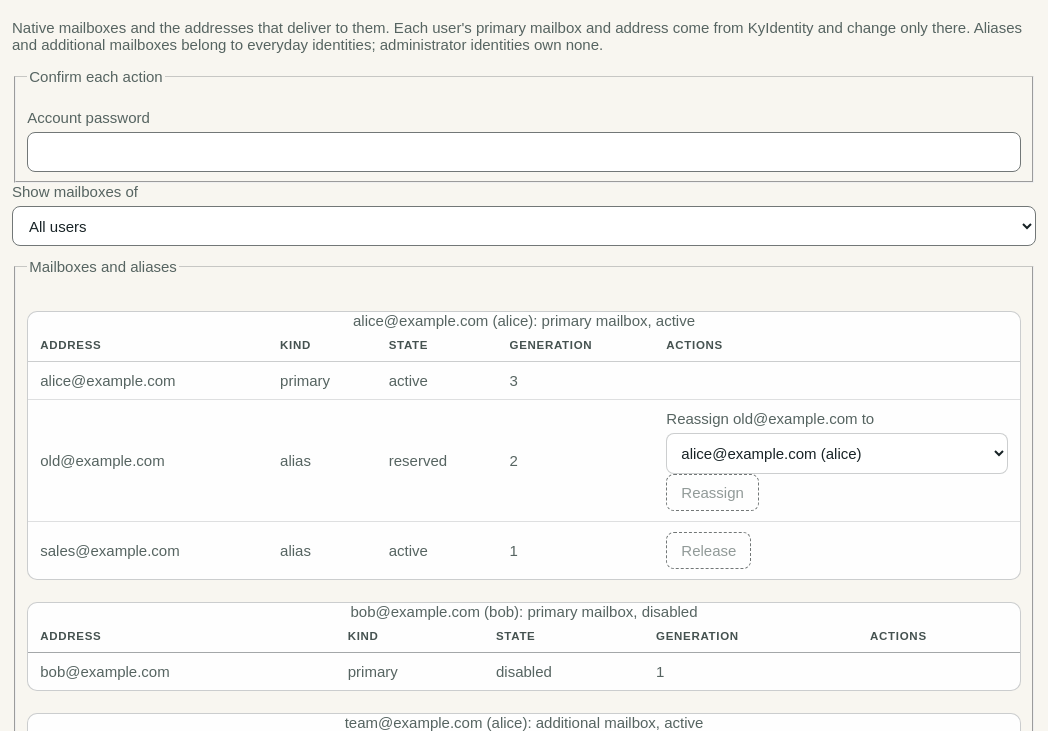
locks changes until reload when no answer arrived
The width and height of the screenshot is (1048, 731).
expect the text "sales@example.com" is shown: met, box x1=28 y1=522 x2=268 y2=580
In the password field labelled "Account password": [524, 152] box x1=27 y1=132 x2=1021 y2=172, type "account-secret"
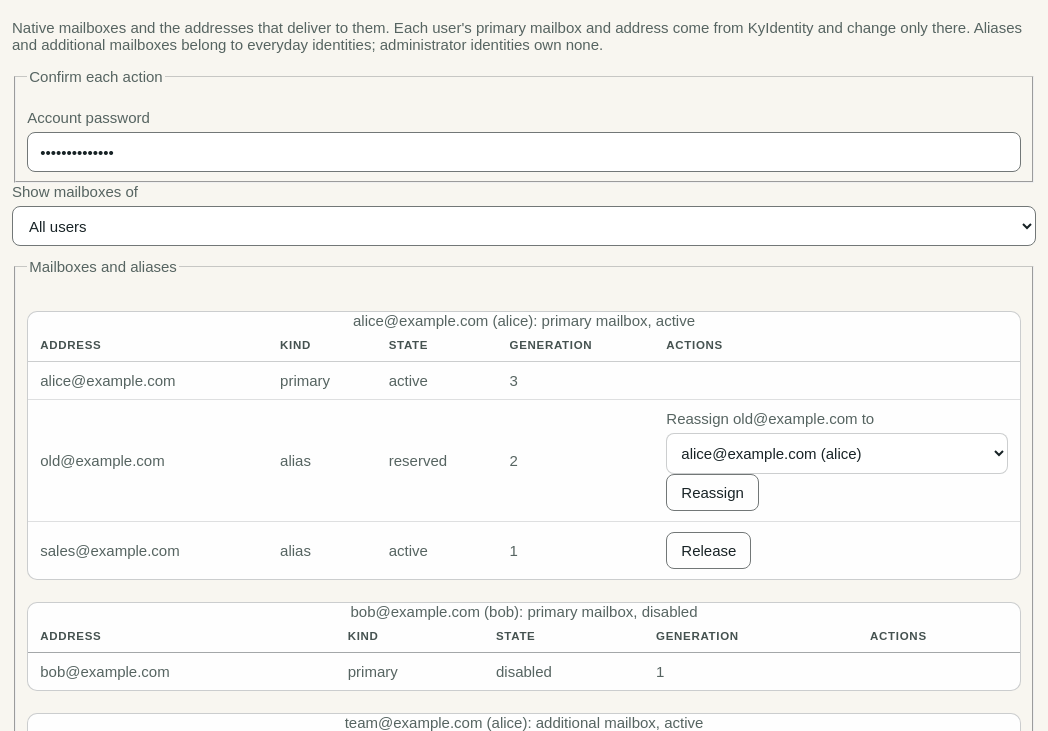
Click the button with aria-label "Release sales@example.com": [709, 551] box x1=666 y1=532 x2=751 y2=570
(page scrolled)
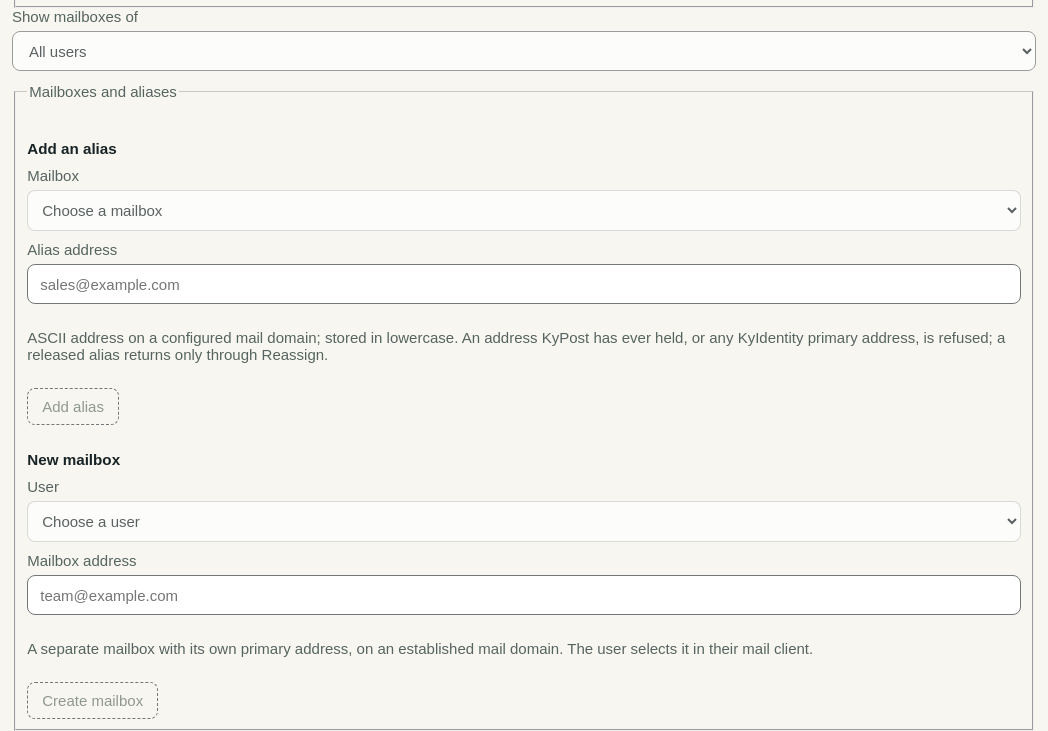
expect the element "Mailboxes and aliases" is disabled: met
